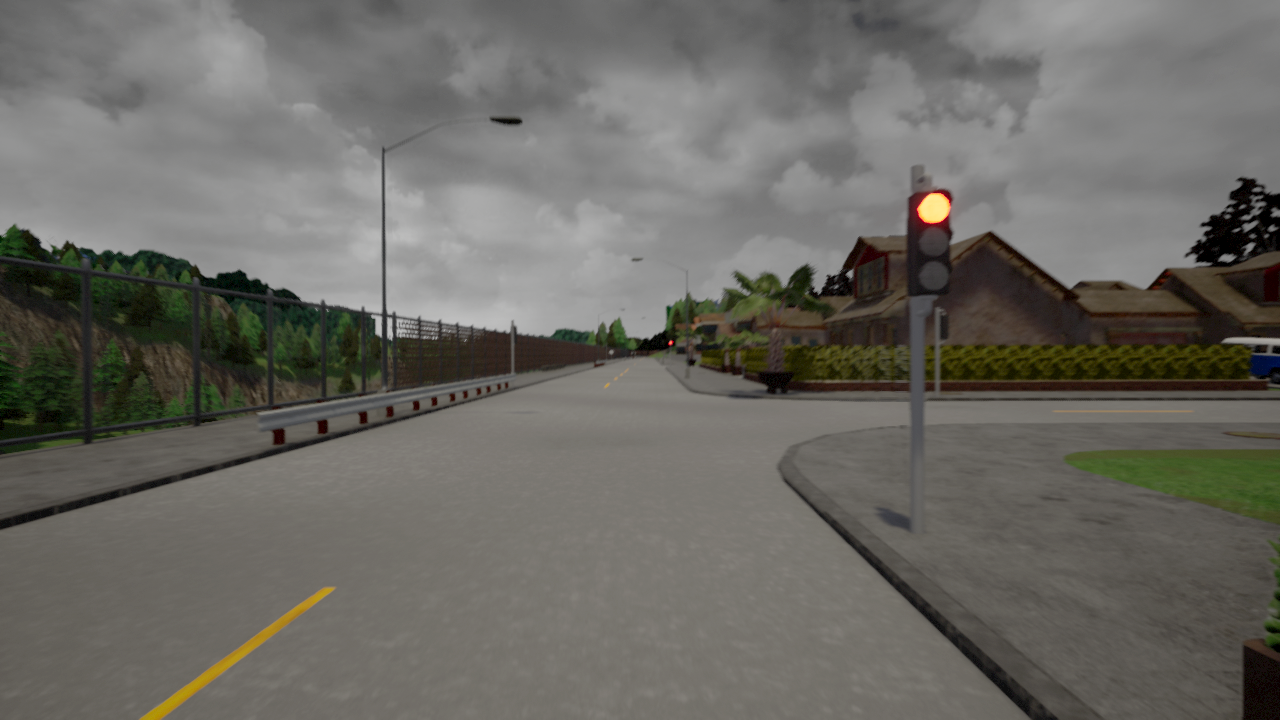red: (906, 190, 951, 295)
